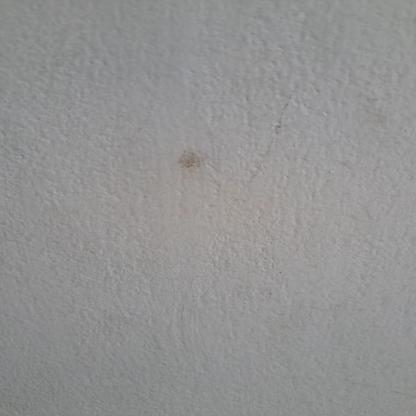spot: (136, 131, 259, 177)
